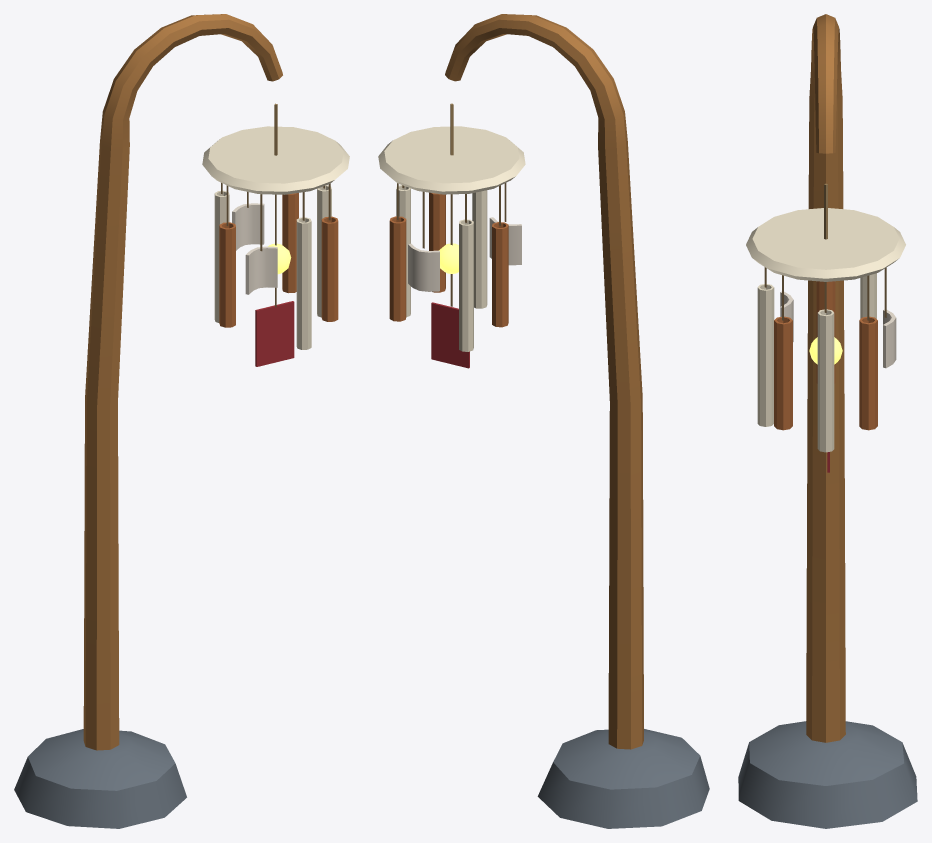
The model's file is deco_wind_chimes_stand.fbx.
3 views of the same model, side by side, from view 1: azimuth 30°, elevation 25°; view 2: azimuth 150°, elevation 25°; view 3: azimuth 270°, elevation 25° (orthographic). The views are drawn at different scales.
Parts seen in each view (by area): view 1: WindChimes_Stand_Stand, WindChimes_Stand_Disc, WindChimes_Stand_Clapper, WindChimes_Stand_Chime7, WindChimes_Stand_Chime8, WindChimes_Stand_Chime5, WindChimes_Stand_Chime6, WindChimes_Stand_Chime2, WindChimes_Stand_Chime3, WindChimes_Stand_Chime4, WindChimes_Stand_Chime1; view 2: WindChimes_Stand_Stand, WindChimes_Stand_Disc, WindChimes_Stand_Clapper, WindChimes_Stand_Chime4, WindChimes_Stand_Chime2, WindChimes_Stand_Chime5, WindChimes_Stand_Chime7, WindChimes_Stand_Chime3, WindChimes_Stand_Chime8, WindChimes_Stand_Chime6, WindChimes_Stand_Chime1; view 3: WindChimes_Stand_Stand, WindChimes_Stand_Disc, WindChimes_Stand_Chime1, WindChimes_Stand_Chime7, WindChimes_Stand_Chime2, WindChimes_Stand_Chime8, WindChimes_Stand_Chime3, WindChimes_Stand_Chime5, WindChimes_Stand_Chime4, WindChimes_Stand_Clapper.
Part boxes in pixels (x1,y1,x2,y2): WindChimes_Stand_Stand: (14, 14, 282, 828); WindChimes_Stand_Disc: (202, 103, 349, 194); WindChimes_Stand_Clapper: (255, 194, 294, 366); WindChimes_Stand_Chime7: (296, 192, 311, 349); WindChimes_Stand_Chime8: (321, 184, 338, 321); WindChimes_Stand_Chime5: (219, 185, 235, 327); WindChimes_Stand_Chime6: (245, 194, 277, 294); WindChimes_Stand_Chime2: (282, 193, 298, 293); WindChimes_Stand_Chime3: (232, 192, 264, 250); WindChimes_Stand_Chime4: (214, 183, 229, 322); WindChimes_Stand_Chime1: (317, 185, 331, 317); WindChimes_Stand_Stand: (445, 14, 709, 828); WindChimes_Stand_Disc: (378, 103, 525, 194); WindChimes_Stand_Clapper: (431, 194, 469, 368); WindChimes_Stand_Chime4: (459, 194, 473, 351); WindChimes_Stand_Chime2: (389, 183, 406, 321); WindChimes_Stand_Chime5: (492, 185, 508, 327); WindChimes_Stand_Chime7: (472, 190, 487, 308); WindChimes_Stand_Chime3: (408, 191, 439, 291); WindChimes_Stand_Chime8: (429, 192, 445, 292); WindChimes_Stand_Chime6: (489, 183, 521, 265); WindChimes_Stand_Chime1: (396, 185, 410, 316); WindChimes_Stand_Stand: (738, 14, 917, 828); WindChimes_Stand_Disc: (746, 183, 905, 281); WindChimes_Stand_Chime1: (817, 282, 834, 452); WindChimes_Stand_Chime7: (757, 267, 774, 426); WindChimes_Stand_Chime2: (859, 275, 877, 430); WindChimes_Stand_Chime8: (774, 275, 792, 430); WindChimes_Stand_Chime3: (883, 267, 896, 368); WindChimes_Stand_Chime5: (816, 281, 835, 383); WindChimes_Stand_Chime4: (860, 273, 876, 318); WindChimes_Stand_Clapper: (809, 337, 842, 472).
Bounding box in the file's own units: 117 × 269 × 53.63.
